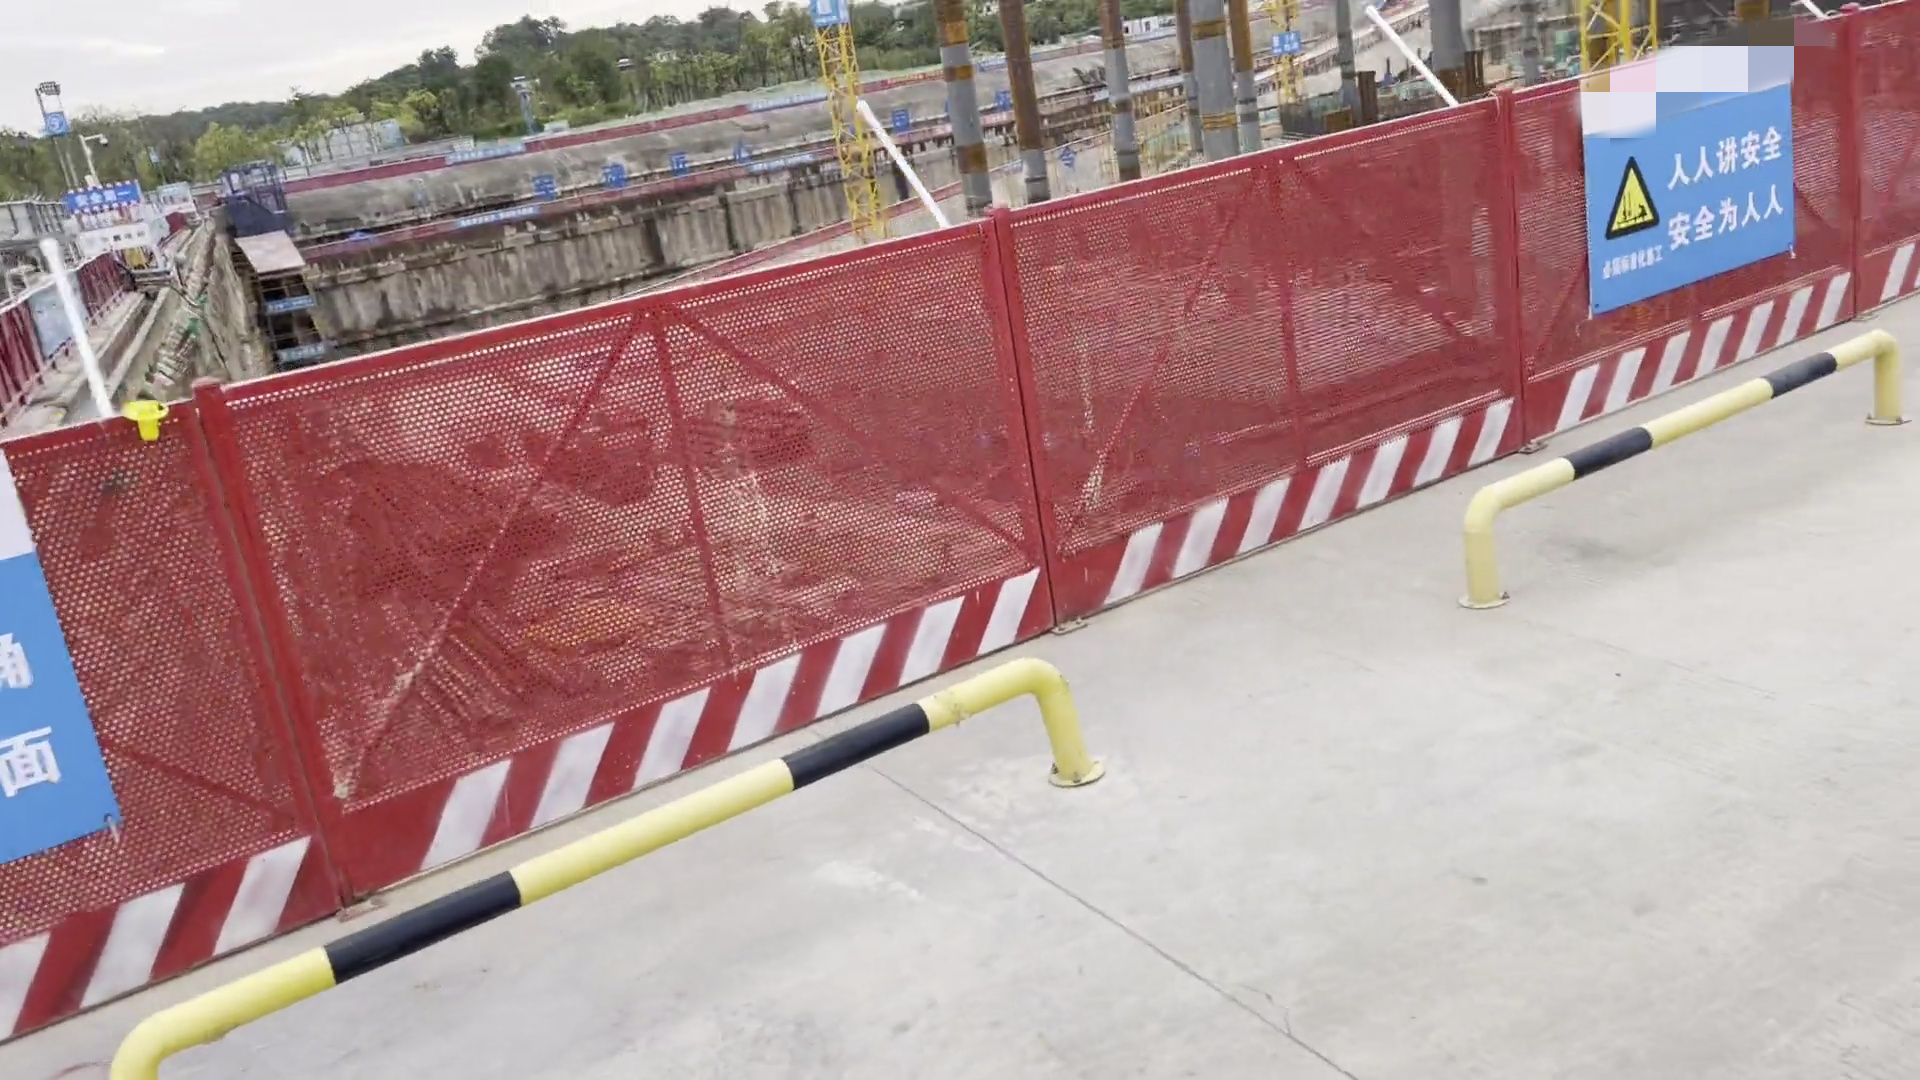fence: (247, 211, 927, 808), (1, 389, 549, 1050), (915, 193, 1423, 684), (1163, 123, 1756, 496), (1511, 4, 1920, 440), (1, 245, 121, 442)
slogan: (1545, 28, 1815, 332), (1, 407, 164, 873), (46, 179, 164, 223), (798, 1, 868, 47), (1263, 26, 1313, 66), (42, 108, 79, 146)
